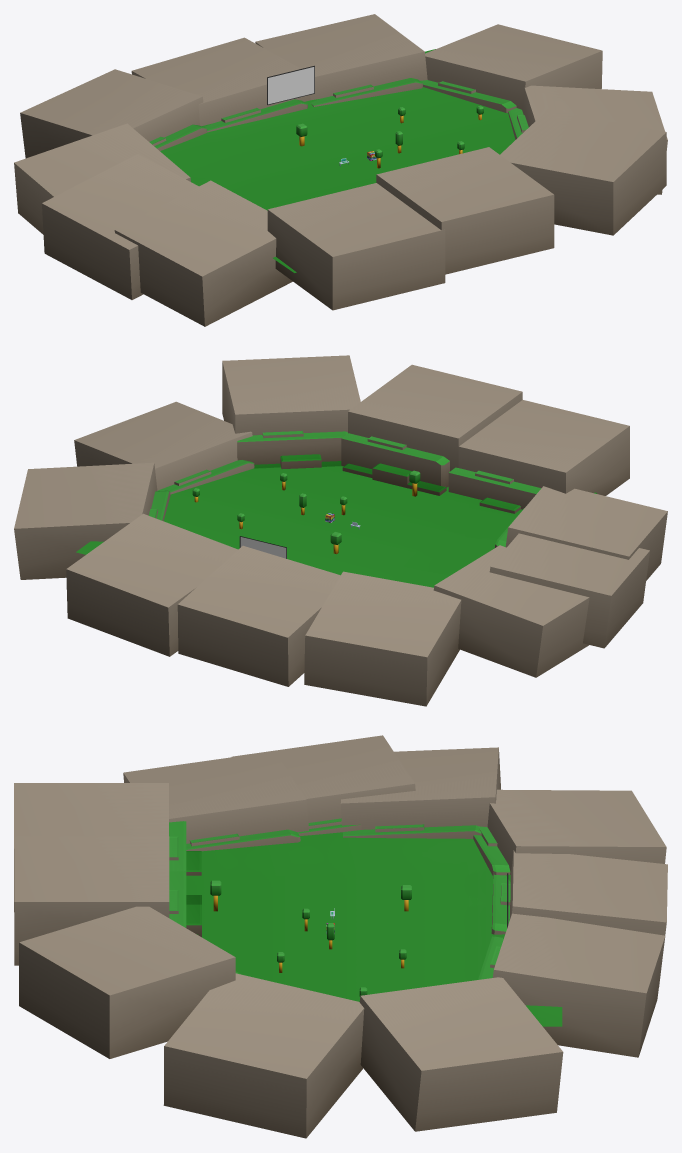
File: forest1.glb
3 views of the same model, one above another, from view 1: azimuth 30°, elevation 25°; view 2: azimuth 150°, elevation 25°; view 3: azimuth 270°, elevation 25° (orthographic). The views are drawn at different scales.
Parts seen in each view (by area): view 1: Terrain, GroundAndTrees, TV; view 2: Terrain, GroundAndTrees, TV; view 3: Terrain, GroundAndTrees.
Boxes of the visible parts, bbox=[...] form: Terrain: bbox=[14, 14, 667, 326]; GroundAndTrees: bbox=[160, 49, 515, 272]; TV: bbox=[267, 65, 314, 105]; Terrain: bbox=[14, 355, 667, 706]; GroundAndTrees: bbox=[76, 466, 596, 587]; TV: bbox=[239, 536, 286, 558]; Terrain: bbox=[14, 735, 667, 1138]; GroundAndTrees: bbox=[186, 832, 562, 1026].
Size of the model in its own units: 192 by 29.74 by 158.
Materials: 3 (1 with a texture image).
